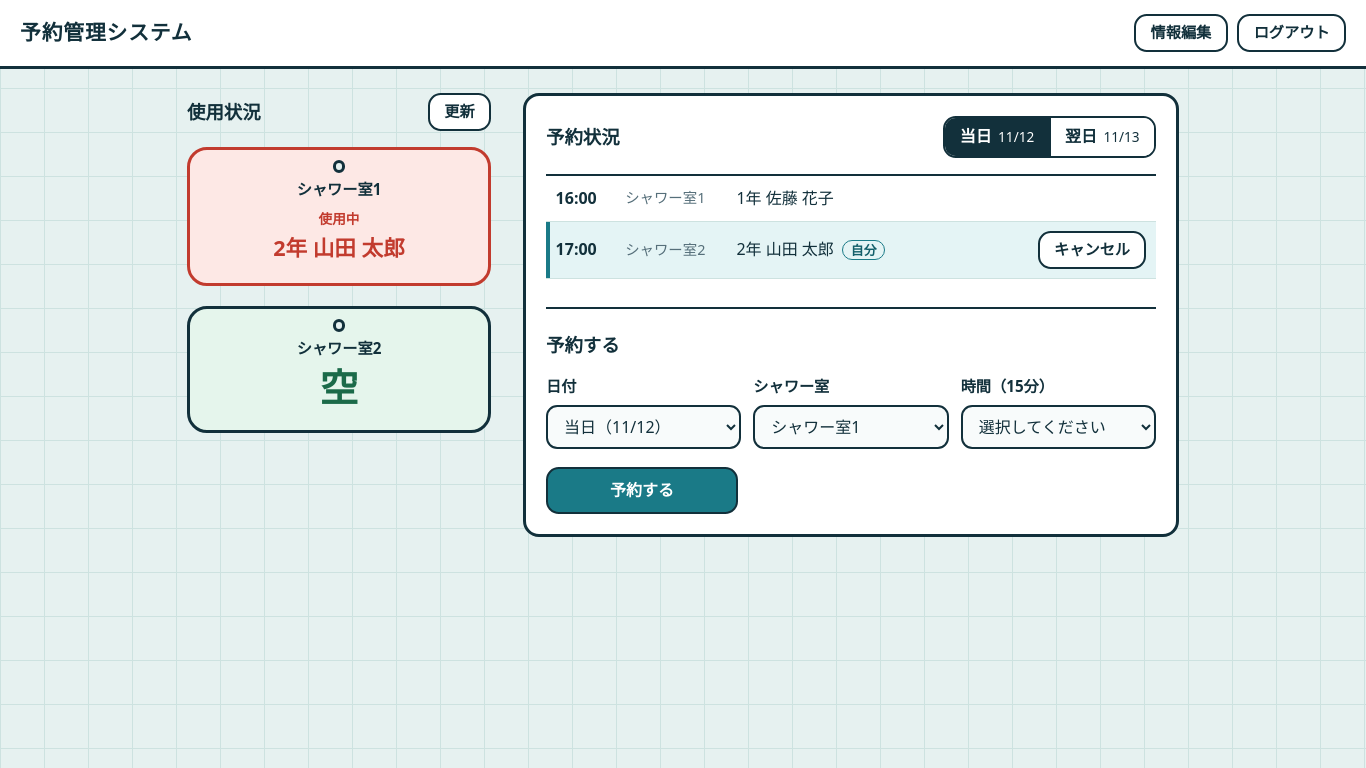
Scenario: トップページ：予約状況 › 自分の予約の「キャンセル」で、DELETE を呼び、一覧から消える
This screenshot has width=1366, height=768.
Check: the heading "使用状況" is shown, box left=187, top=96, right=261, bottom=127
Check: the heading "シャワー室1" is shown, box left=297, top=179, right=381, bottom=199
Click the button "キャンセル" at x=1092, y=250, box left=1038, top=230, right=1146, bottom=269
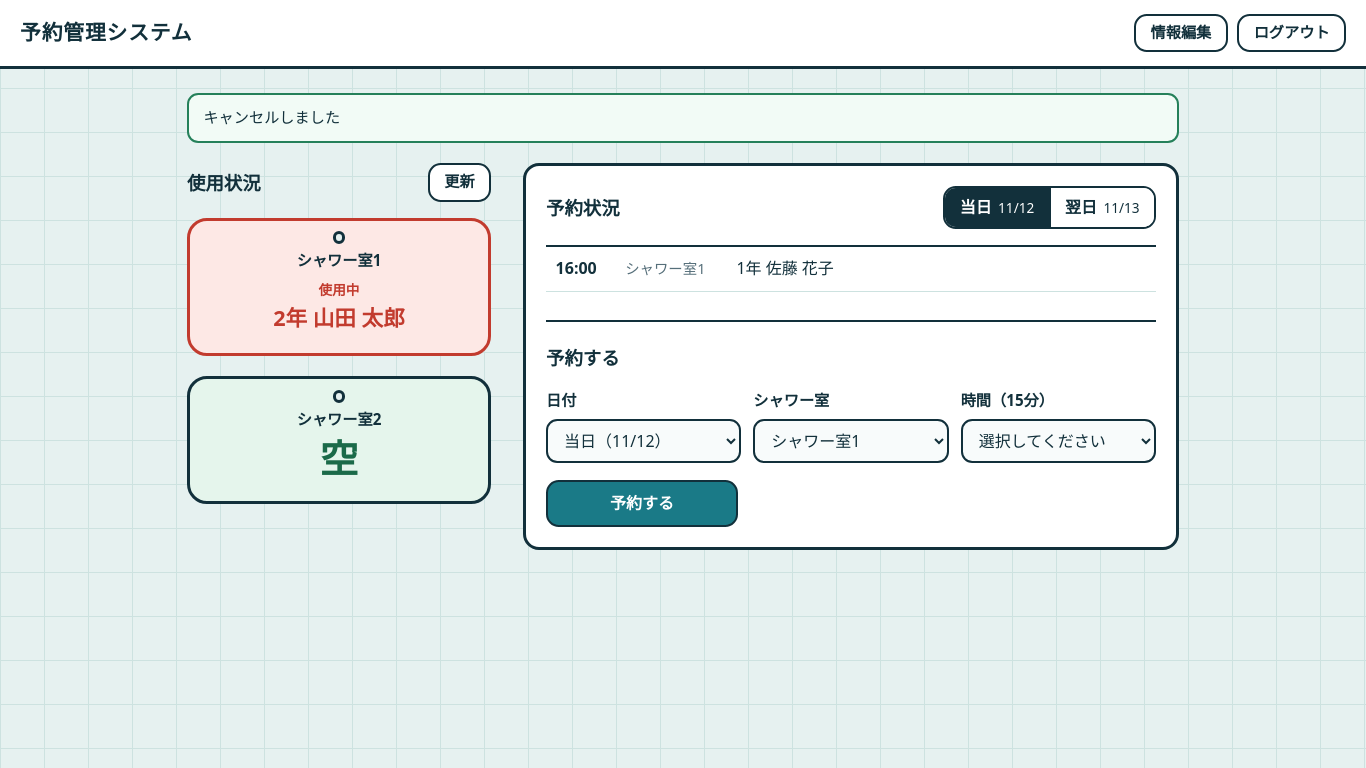
Check: the message reads "キャンセルしました", box left=203, top=107, right=340, bottom=127
Check: the number of list items is 1, box left=546, top=247, right=1156, bottom=292
